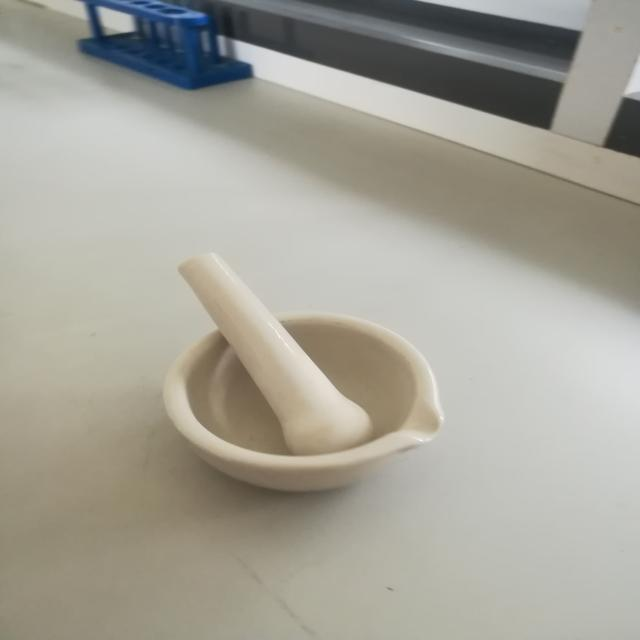Porcelain_Mortar Pestle: (91, 221, 476, 536)
